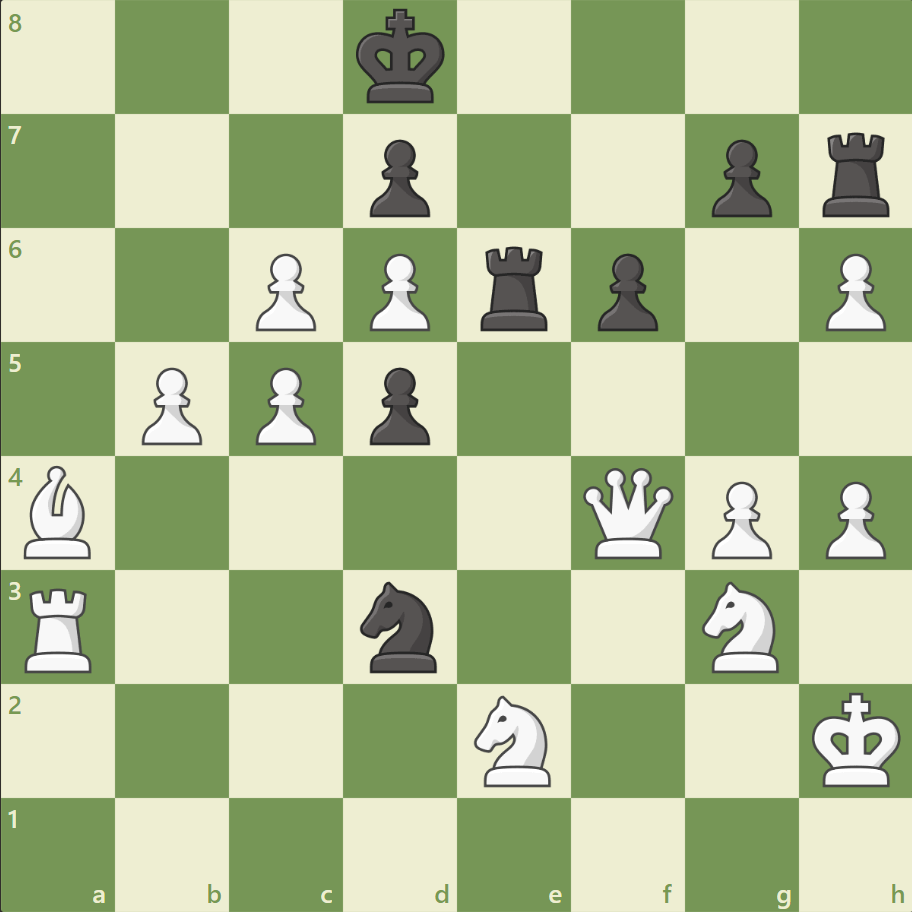B: (17, 460, 101, 563)
K: (806, 685, 906, 793)
N: (465, 688, 562, 791), (692, 575, 789, 677)
P: (247, 246, 322, 337), (133, 359, 208, 450), (247, 359, 322, 450), (701, 473, 776, 564), (361, 246, 435, 337), (815, 246, 889, 337), (815, 473, 889, 564)
Q: (578, 463, 677, 562)
R: (19, 579, 102, 676)
k: (351, 4, 451, 112)
n: (351, 575, 449, 677)
p: (701, 132, 776, 223), (361, 132, 435, 223), (588, 246, 662, 337), (361, 359, 435, 450)
r: (814, 125, 897, 222), (473, 239, 556, 336)
